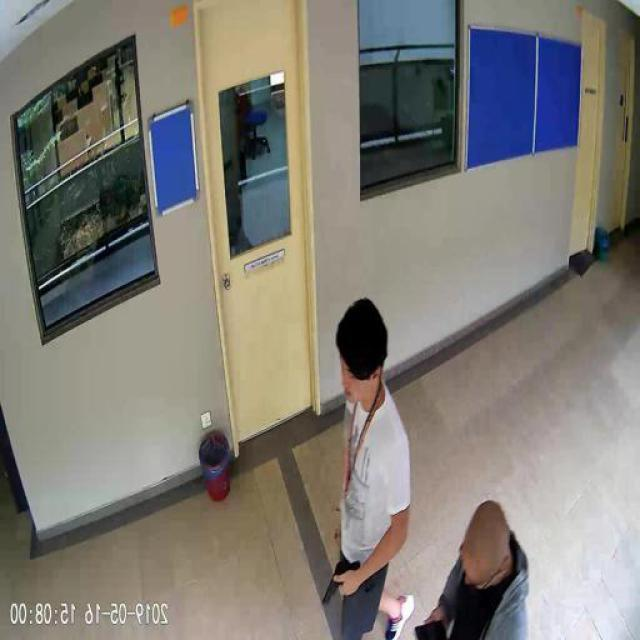weapon: (316, 562, 362, 602)
